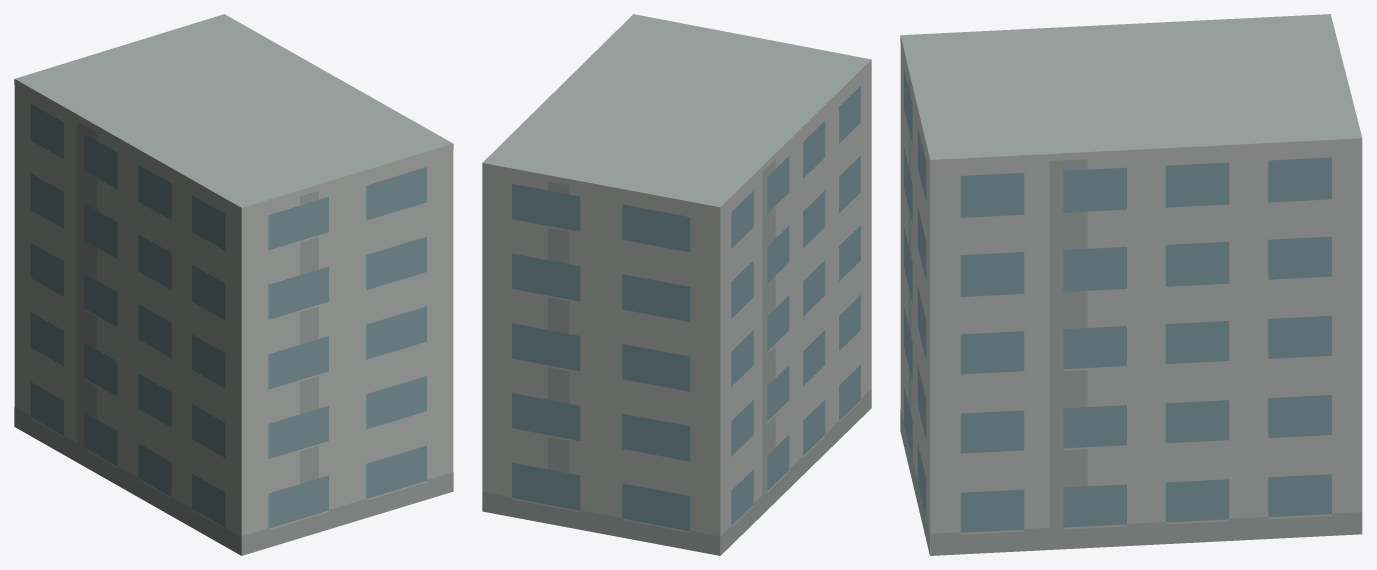
File: survey-upis-32892262.glb
The picture shows the model from 3 angles, left to right: view 1: azimuth 30°, elevation 25°; view 2: azimuth 150°, elevation 25°; view 3: azimuth 270°, elevation 25°; orthographic projection. The views are drawn at different scales.
Parts seen in each view (by area): view 1: survey-upis-32892262.tmp; view 2: survey-upis-32892262.tmp; view 3: survey-upis-32892262.tmp.
Part boxes in pixels (x1,y1,x2,y2): survey-upis-32892262.tmp: (14, 14, 453, 555); survey-upis-32892262.tmp: (482, 14, 871, 555); survey-upis-32892262.tmp: (900, 14, 1362, 555).
Size of the model in its own units: 10.8 by 13.65 by 14.44.
